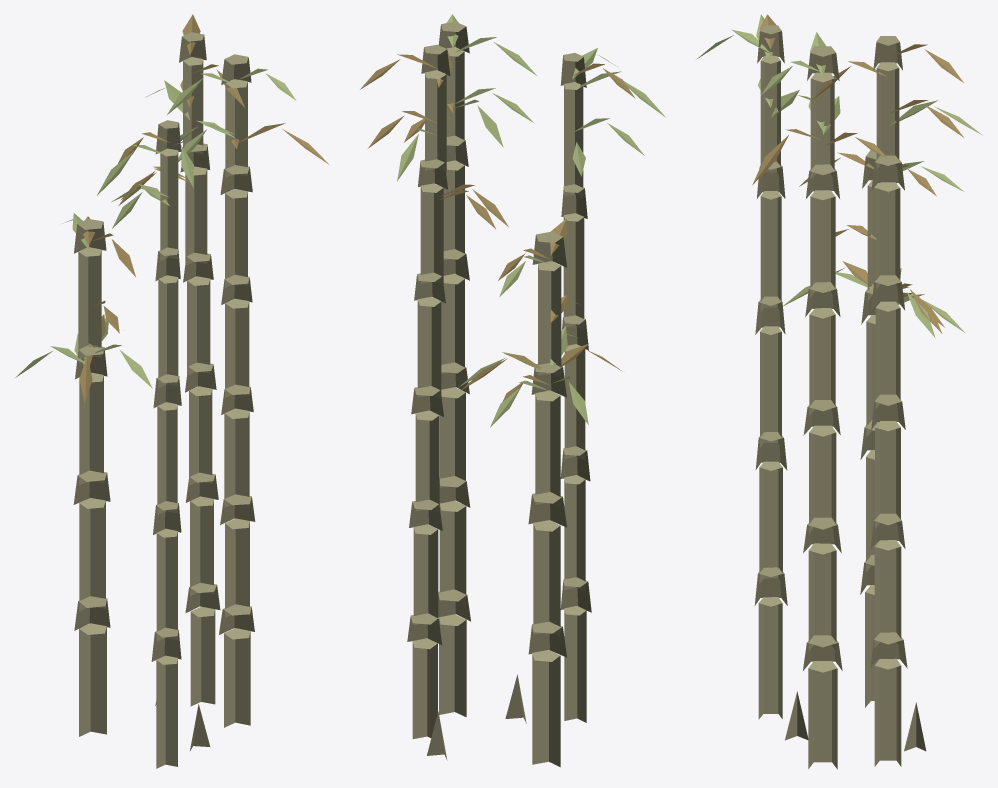
Rendered from hua.zhu@subadult__autumn.glb.
The picture shows the model from 3 angles, left to right: view 1: azimuth 30°, elevation 25°; view 2: azimuth 150°, elevation 25°; view 3: azimuth 270°, elevation 25°; orthographic projection. The views are drawn at different scales.
Visible parts, largest first — view 1: hua.zhu@subadult__autumn; view 2: hua.zhu@subadult__autumn; view 3: hua.zhu@subadult__autumn.
Part boxes in pixels (x1,y1,x2,y2): hua.zhu@subadult__autumn: (14,14,329,768); hua.zhu@subadult__autumn: (360,14,665,767); hua.zhu@subadult__autumn: (696,14,982,769).
Size of the model in its own units: 1.11 by 3.02 by 1.09.
